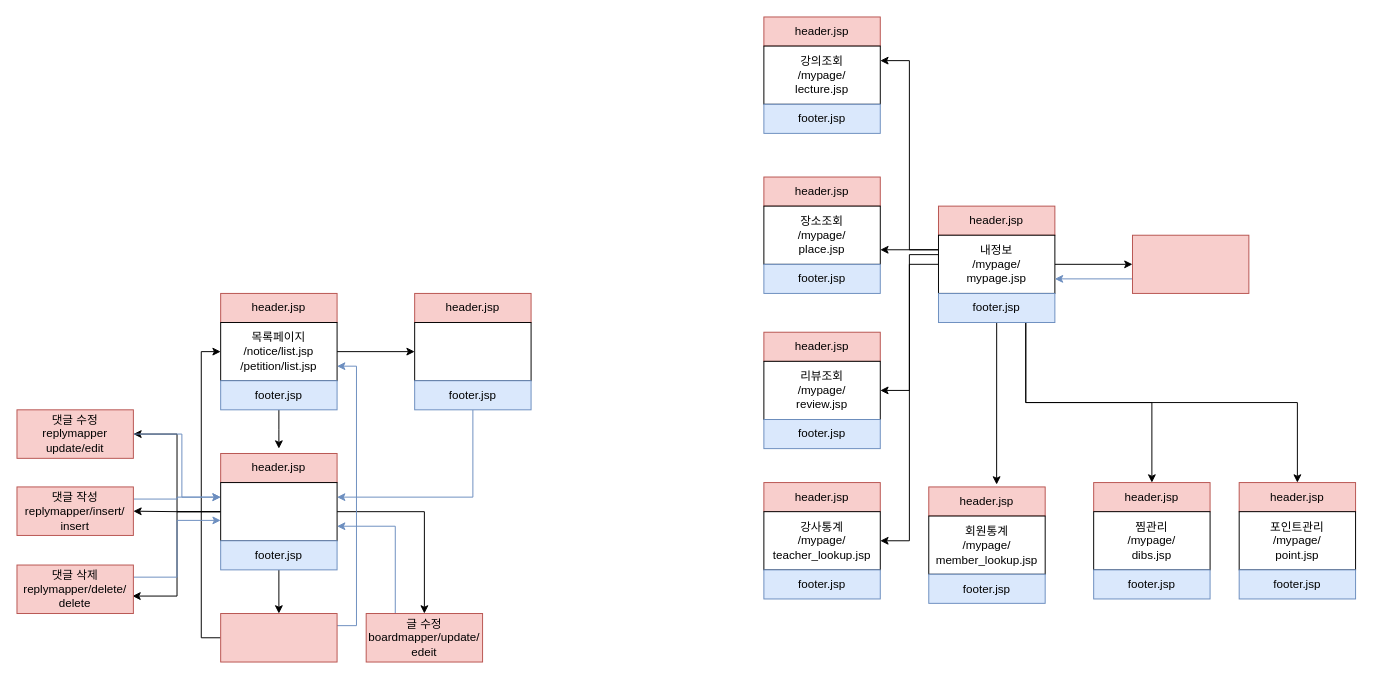
The diagram is 1373 pixels wide and 679 high, and some of its shapes have lost their labels. Here are the shapes that lost their labels. From the top down, the box of each, then its label:
(1132, 234, 1249, 293): 정보 수정 처리 membermapper/ update/edit
(414, 322, 531, 381): 글작성 /notice/write.jsp /petition/write.jsp
(220, 482, 337, 541): 상세페이지 /notice/list.jsp /petition/list.jsp
(220, 613, 337, 662): 글 삭제 처리 boardmapper/delete/
